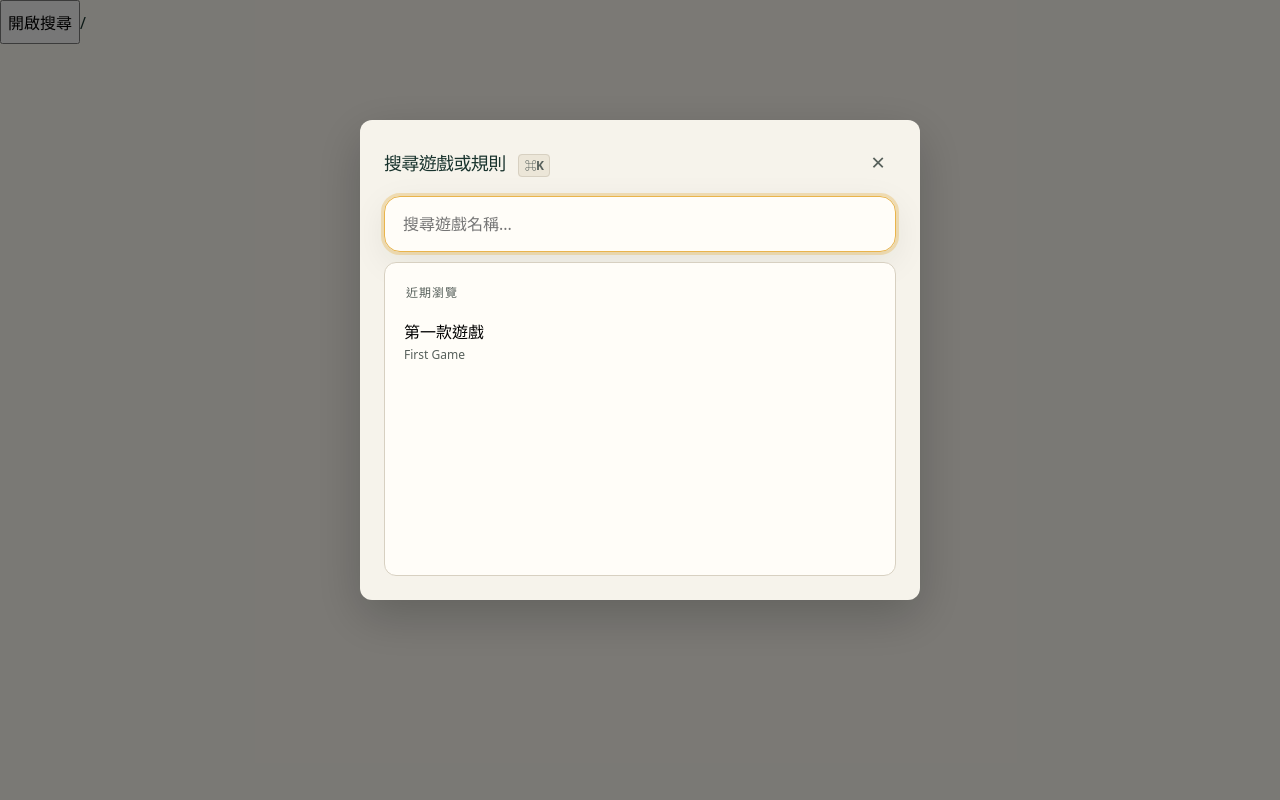
Test case: SearchModal recent games and inline search › opens a recent game through its slug and closes the modal
This screenshot has width=1280, height=800.
Step 1. Click the button "第一款遊戲 First Game" → (444, 332), box x1=392 y1=307 x2=873 y2=375
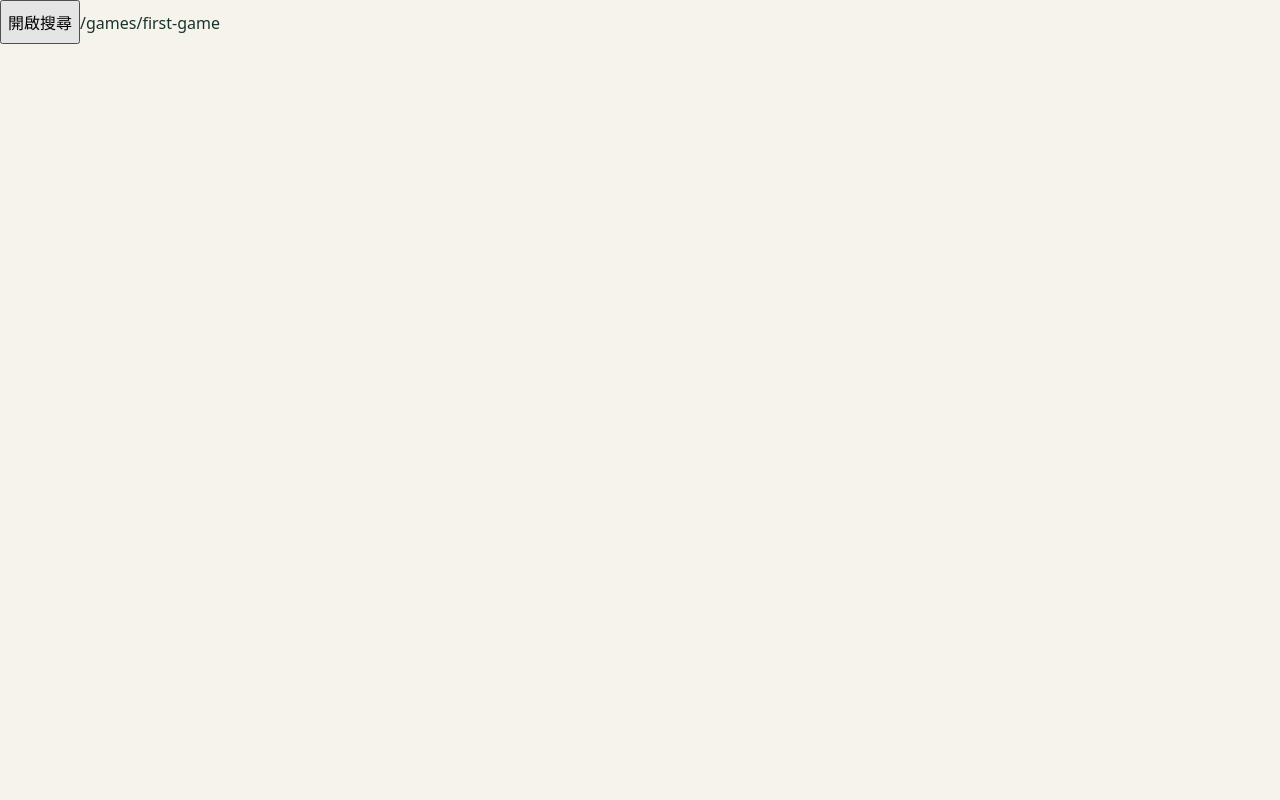
Now the text with test id "location" reads "/games/first-game", box x1=80 y1=12 x2=220 y2=34
Now the dialog is gone
